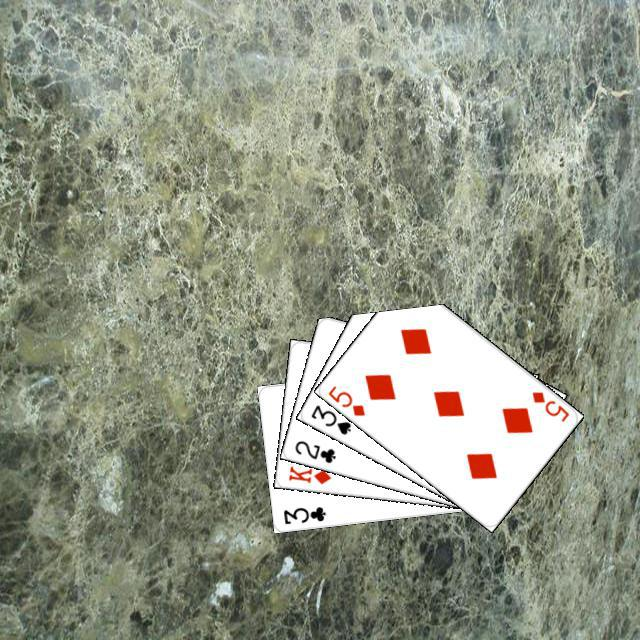2c: (290, 436, 337, 465)
3c: (279, 501, 328, 526)
3s: (306, 400, 353, 436)
5d: (323, 380, 367, 418), (527, 386, 571, 424)
Kd: (284, 461, 333, 486)
